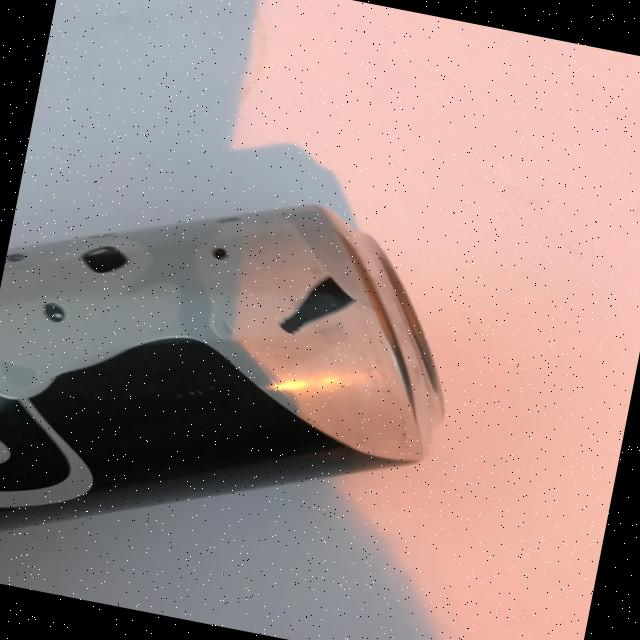metal: (0, 146, 480, 607)
